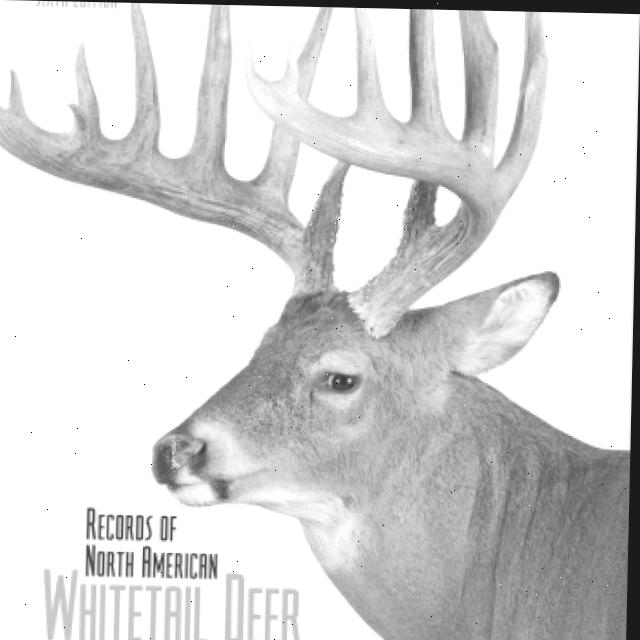Deer: (0, 11, 639, 640)
